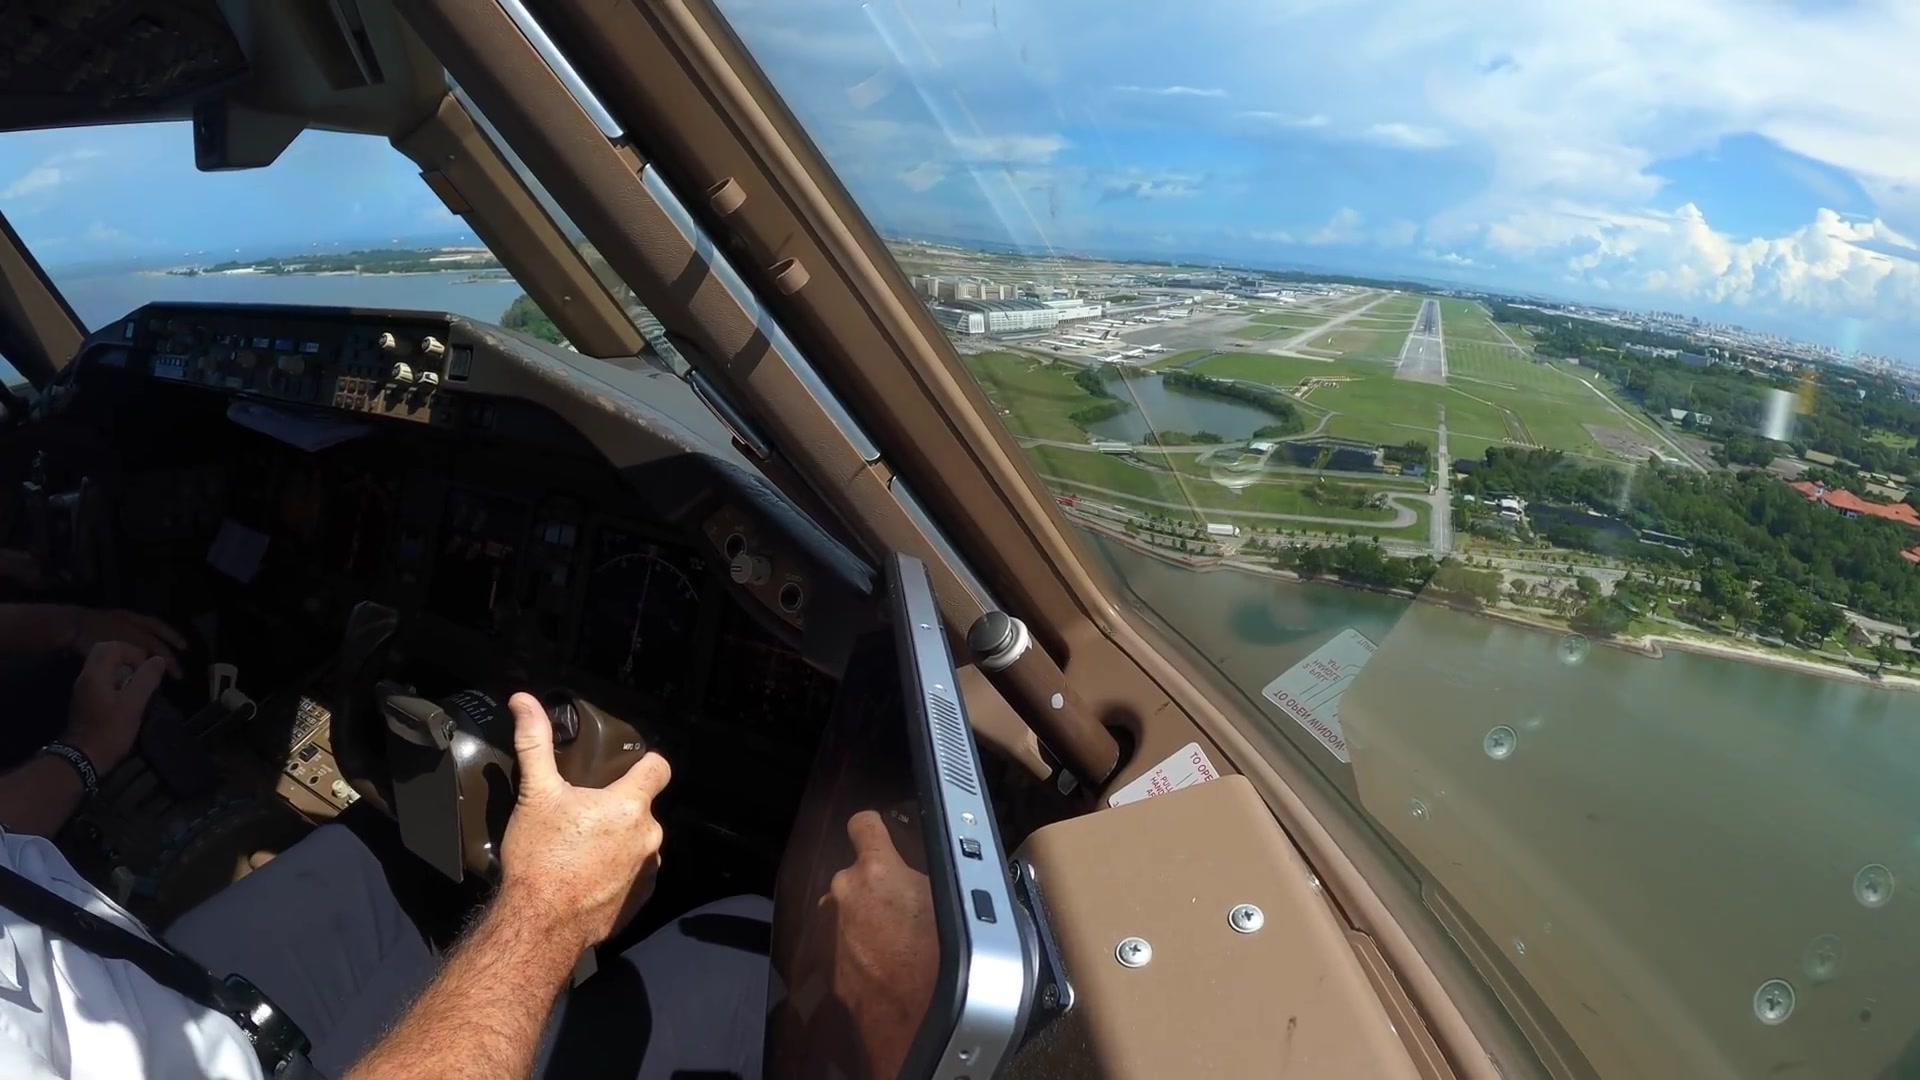runway: (1393, 297, 1447, 385)
